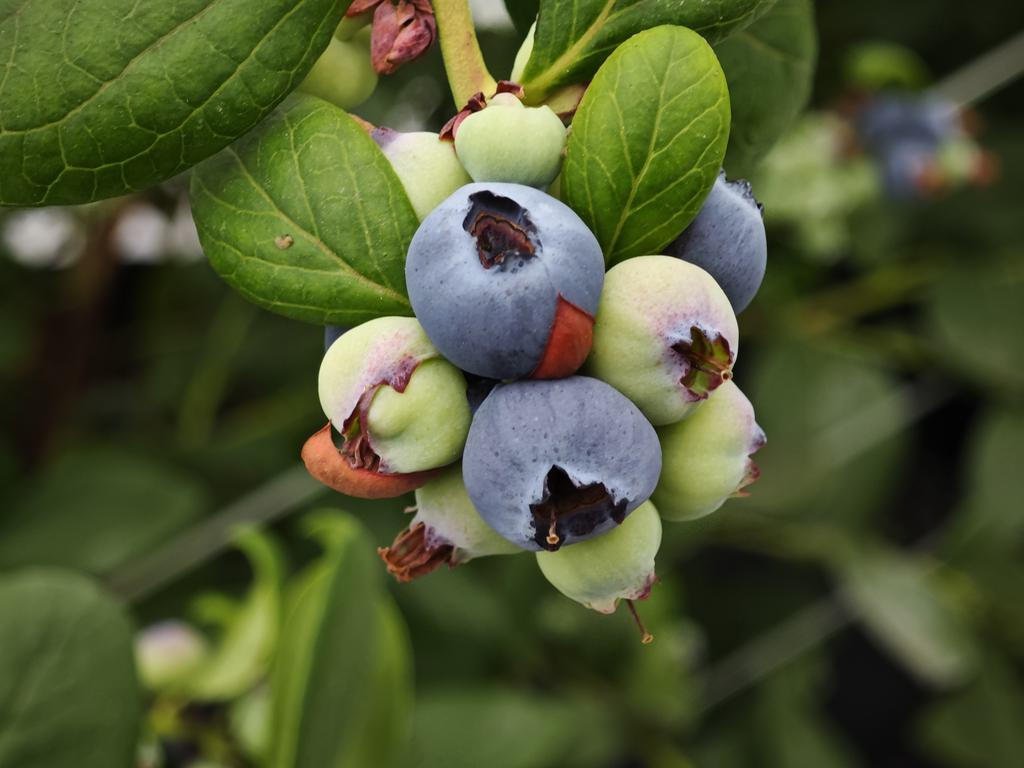RipeBlueBerry: (407, 179, 602, 369), (464, 381, 667, 549)
UnripeBlueBerry: (310, 317, 463, 477), (593, 253, 743, 412)
